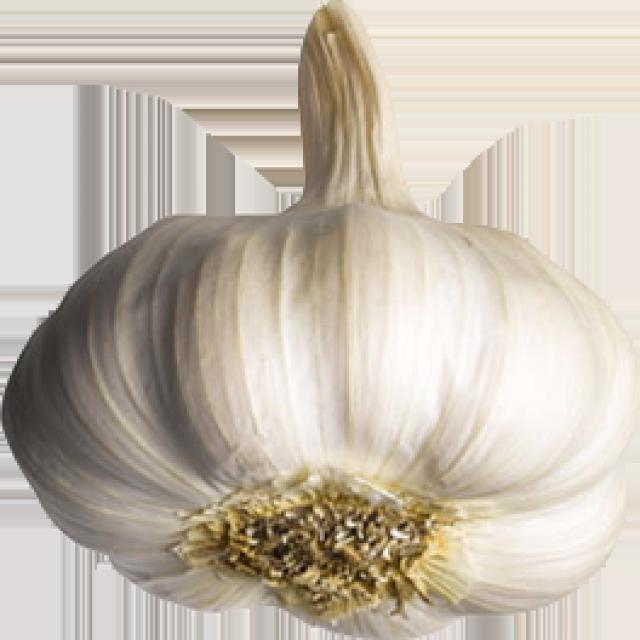Garlic: (0, 2, 631, 640)
